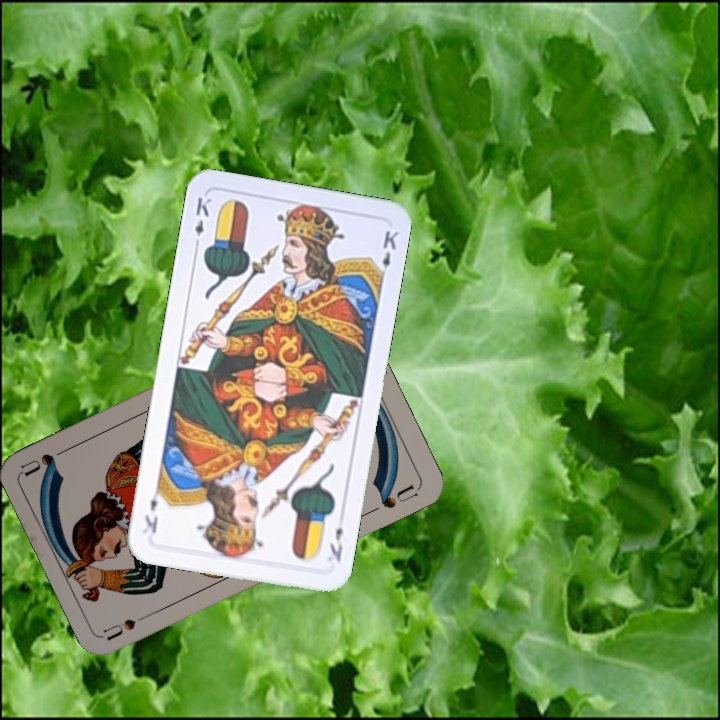EK: (190, 193, 214, 252), (325, 523, 346, 564)
SU: (100, 607, 158, 643)
